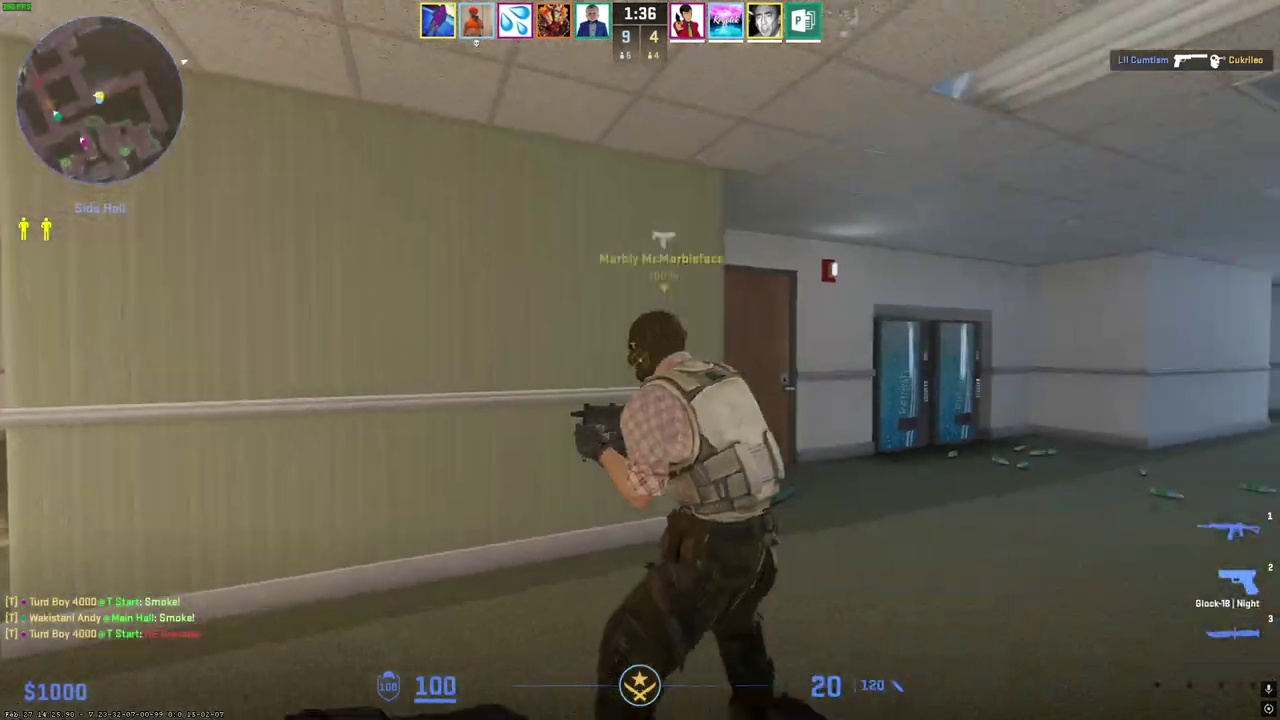Terrorist: (590, 310, 784, 720)
